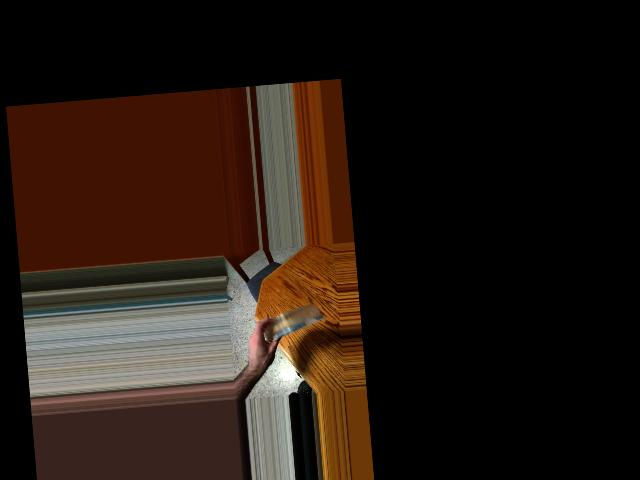cheese: (255, 306, 325, 336)
